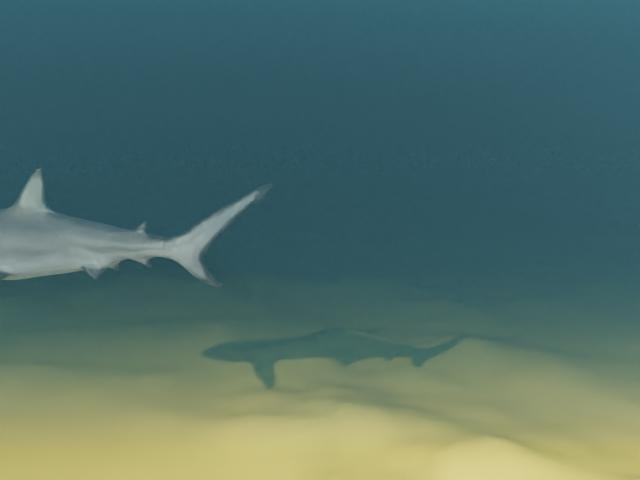Carribean Shark.001: (0, 167, 273, 308)
